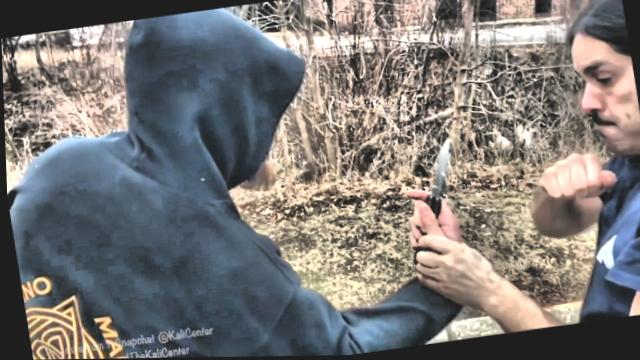knife: (389, 132, 473, 253)
